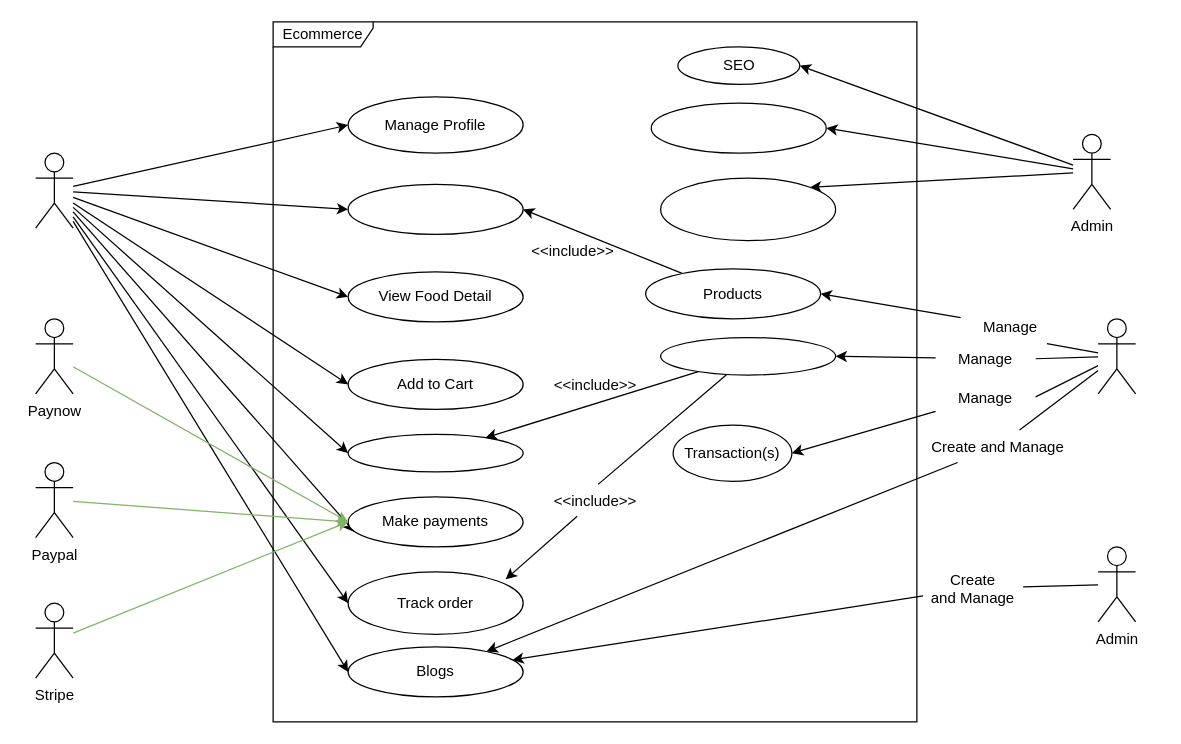
The diagram is 1181 pixels wide and 744 high, and some of its shapes have lost their labels. Here are the shapes that lost their labels. From the top down, the centre of each, then its label:
At pixel 738 127: "Manage Users".
At pixel 53 190: "Customer".
At pixel 435 208: "Browse Food".
At pixel 747 209: "Make Settings".
At pixel 747 355: "Order".
At pixel 1116 356: "Shop Keeper".
At pixel 435 452: "Checkout".
